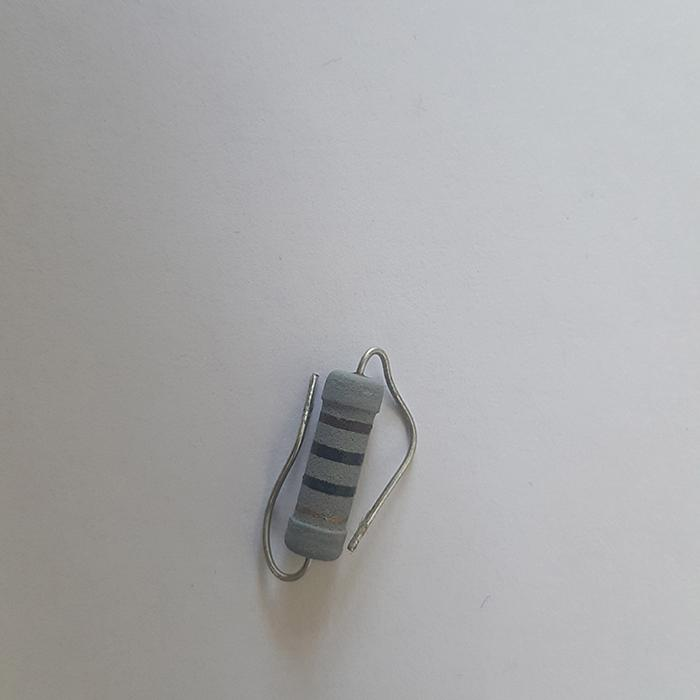resistor: (279, 376, 381, 557)
